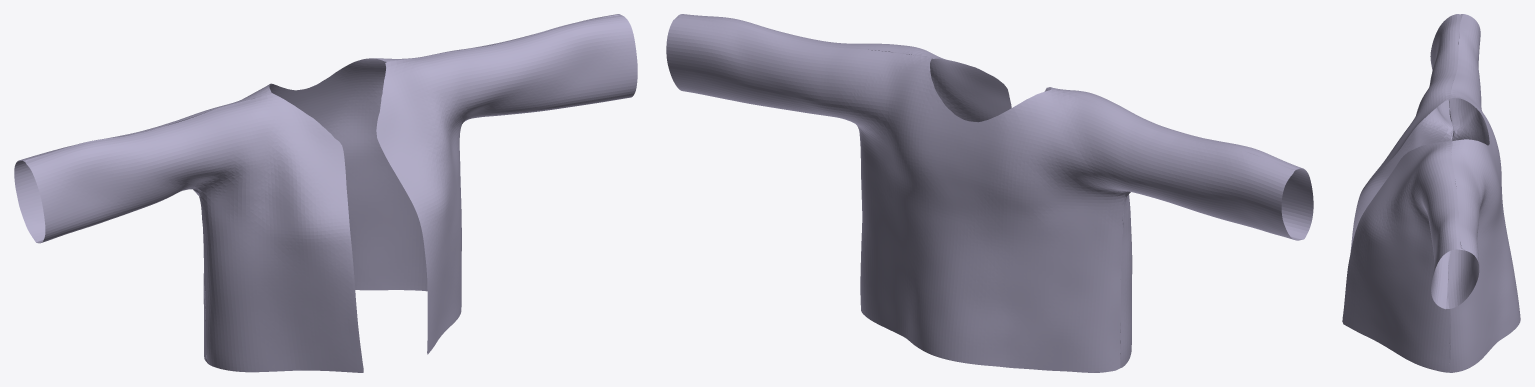
Rendered from isp.glb.
3 renders of one model, left to right at view 1: azimuth 30°, elevation 25°; view 2: azimuth 150°, elevation 25°; view 3: azimuth 270°, elevation 25°, orthographic. The views are drawn at different scales.
Visible parts, largest first — view 1: world; view 2: world; view 3: world.
Part boxes in pixels (x1,y1,x2,y2): world: [14, 14, 637, 372]; world: [666, 14, 1313, 372]; world: [1342, 14, 1520, 372].
Bounding box in the file's own units: 1.1 × 0.4519 × 0.3506.
